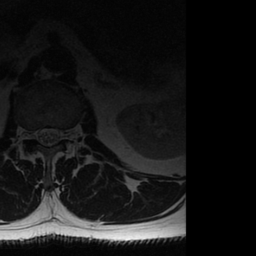CCS_normal: (45, 116, 53, 155)
LFS_normal: (62, 120, 71, 148)
LLS_normal: (53, 119, 62, 151)
RFS_normal: (26, 119, 35, 148)
RLS_normal: (35, 118, 45, 150)
